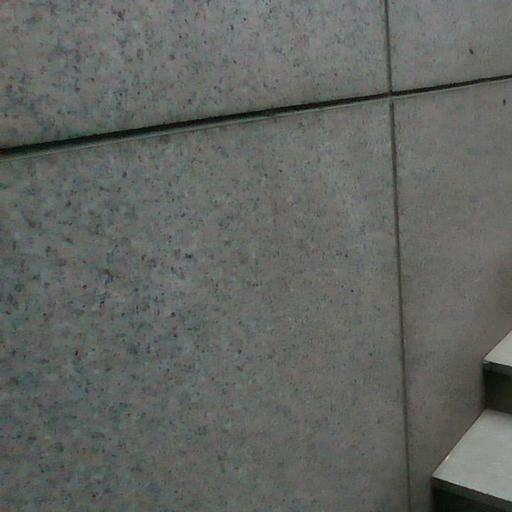stairs: (433, 333, 511, 511)
